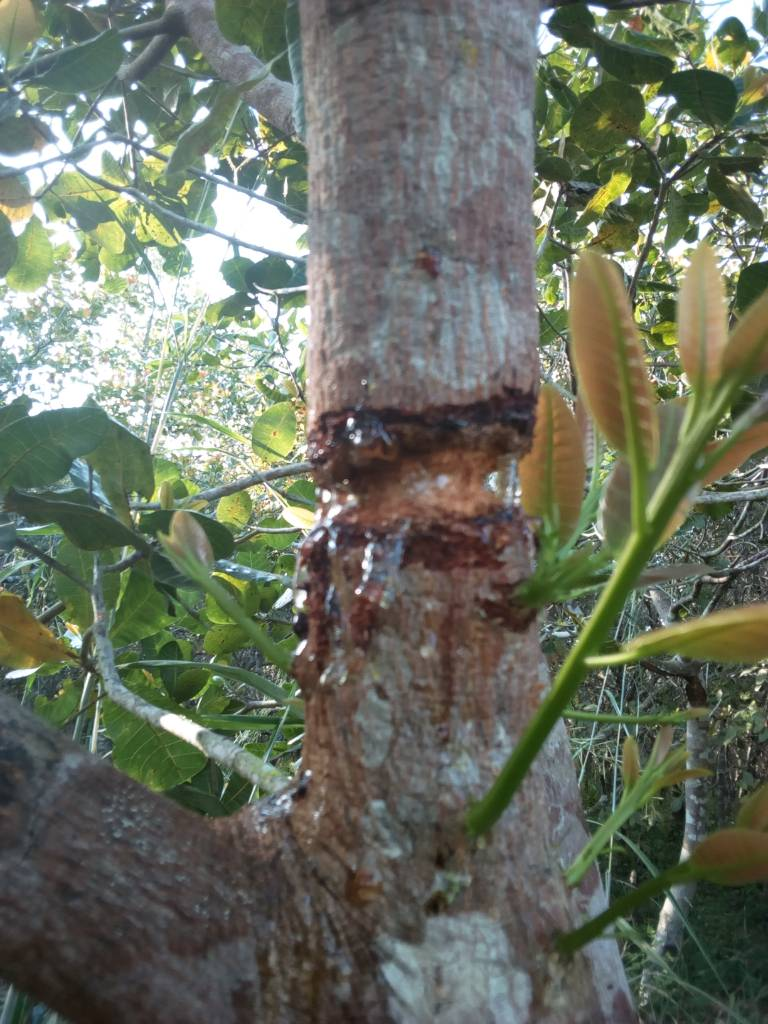Analepse trifasciata: (290, 394, 583, 589)
